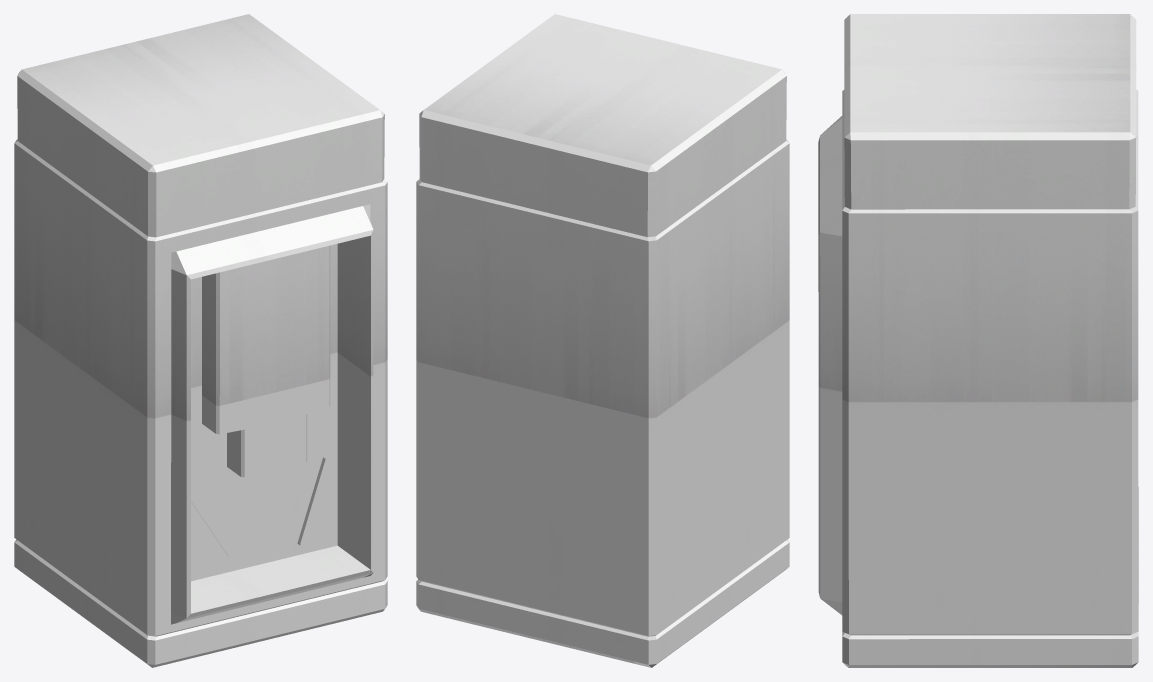
File: ServerRack1.fbx
3 renders of one model, left to right at view 1: azimuth 30°, elevation 25°; view 2: azimuth 150°, elevation 25°; view 3: azimuth 270°, elevation 25°, orthographic. The views are drawn at different scales.
Visible parts, largest first — view 1: Cube_004; view 2: Cube_004; view 3: Cube_004.
Boxes of the visible parts, <box> form: Cube_004: <box>14,14,387,667</box>; Cube_004: <box>416,14,789,667</box>; Cube_004: <box>818,14,1138,667</box>.
Bounding box in the file's own units: 3 × 5.98 × 3.24.
Materials: 1 (1 with a texture image).
